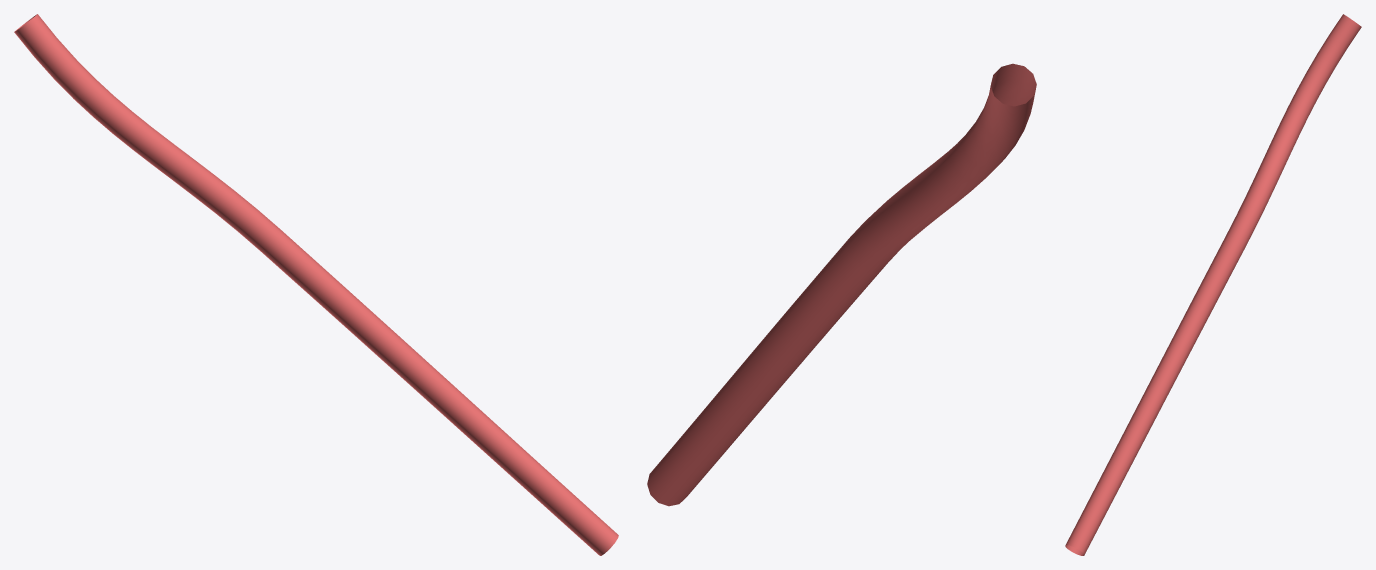
The model's file is Ulnar_recurrent_artery.l_BezierCurve.163.glb.
3 renders of one model, left to right at view 1: azimuth 30°, elevation 25°; view 2: azimuth 150°, elevation 25°; view 3: azimuth 270°, elevation 25°, orthographic. The views are drawn at different scales.
Parts seen in each view (by area): view 1: Ulnar_recurrent_artery.l_BezierCurve.163; view 2: Ulnar_recurrent_artery.l_BezierCurve.163; view 3: Ulnar_recurrent_artery.l_BezierCurve.163.
Part boxes in pixels (box(x1,y1,x2,y2)): Ulnar_recurrent_artery.l_BezierCurve.163: box(14, 14, 618, 555); Ulnar_recurrent_artery.l_BezierCurve.163: box(647, 63, 1036, 506); Ulnar_recurrent_artery.l_BezierCurve.163: box(1065, 14, 1361, 555).
Size of the model in its own units: 0.0222 by 0.0253 by 0.0173.
